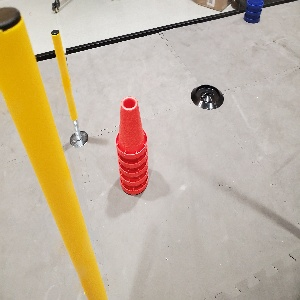Red_5: (116, 95, 146, 190)
